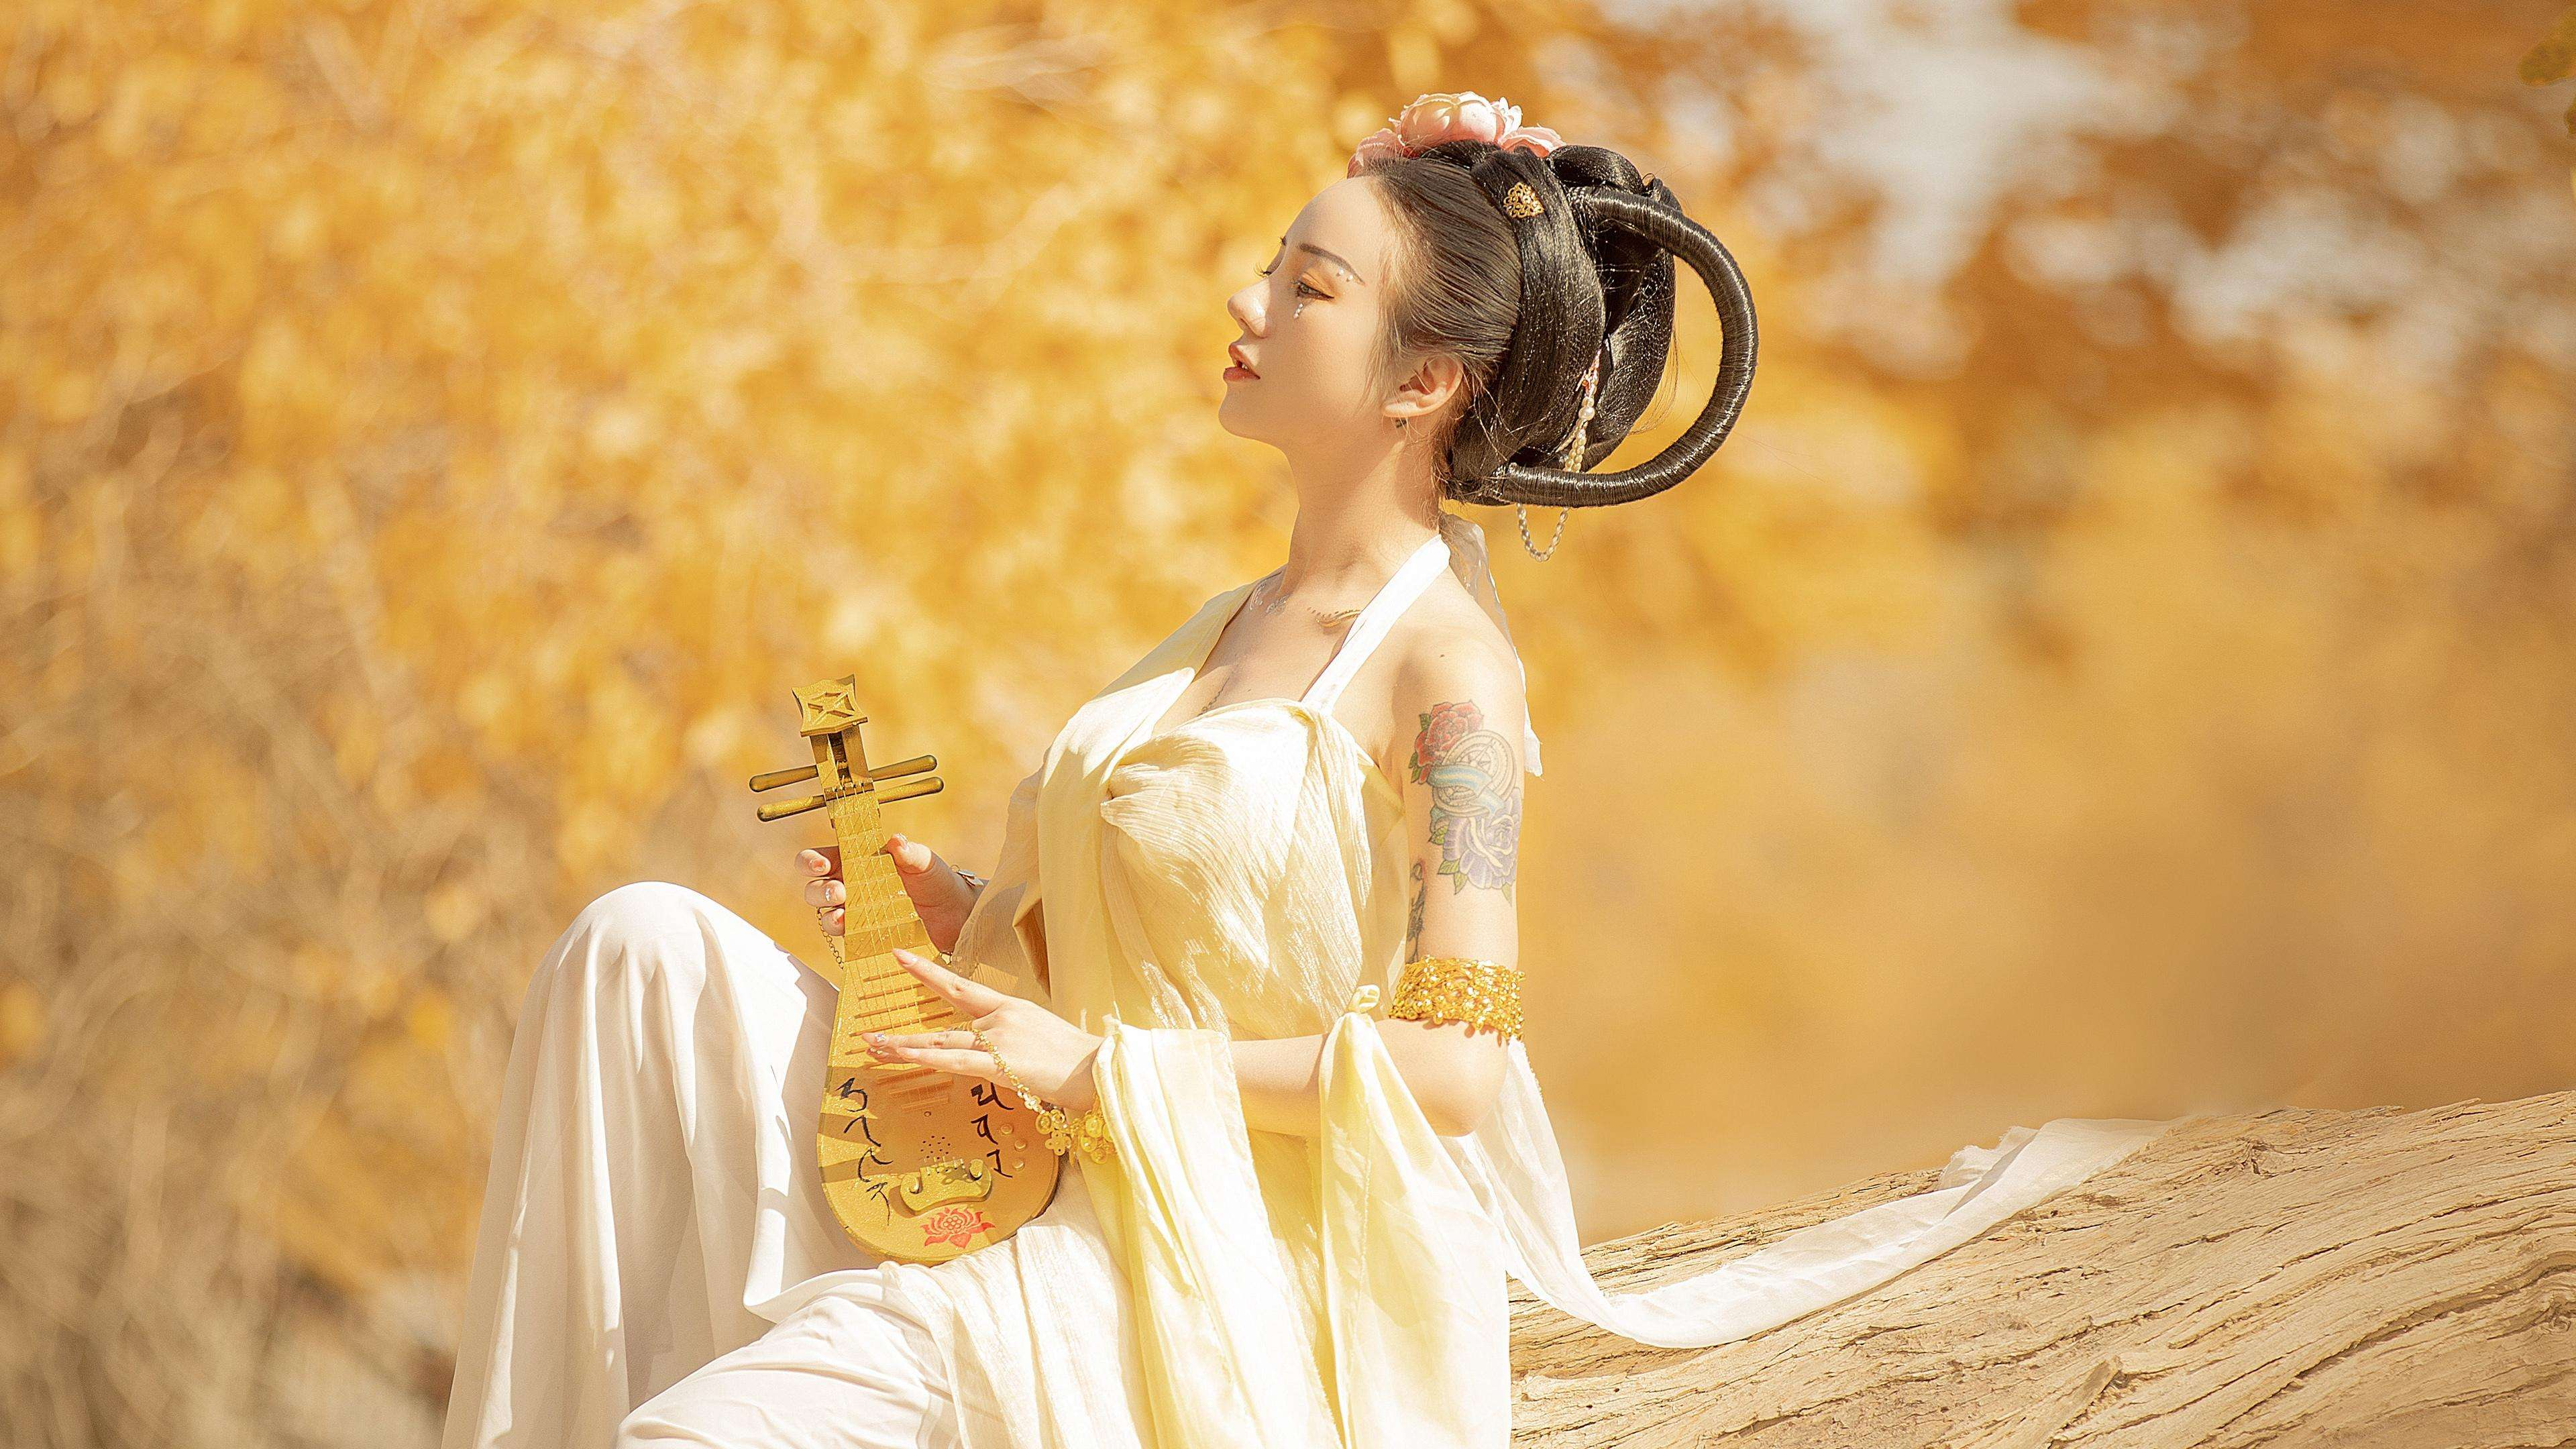person: (806, 145, 1643, 1384)
